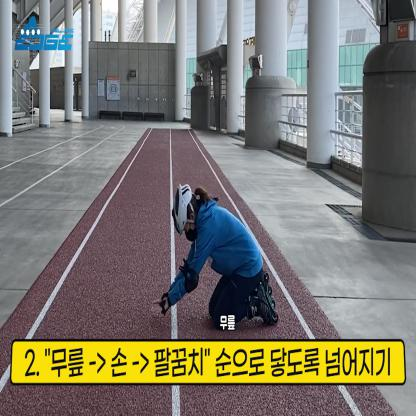Fall_Down: (152, 184, 279, 328)
